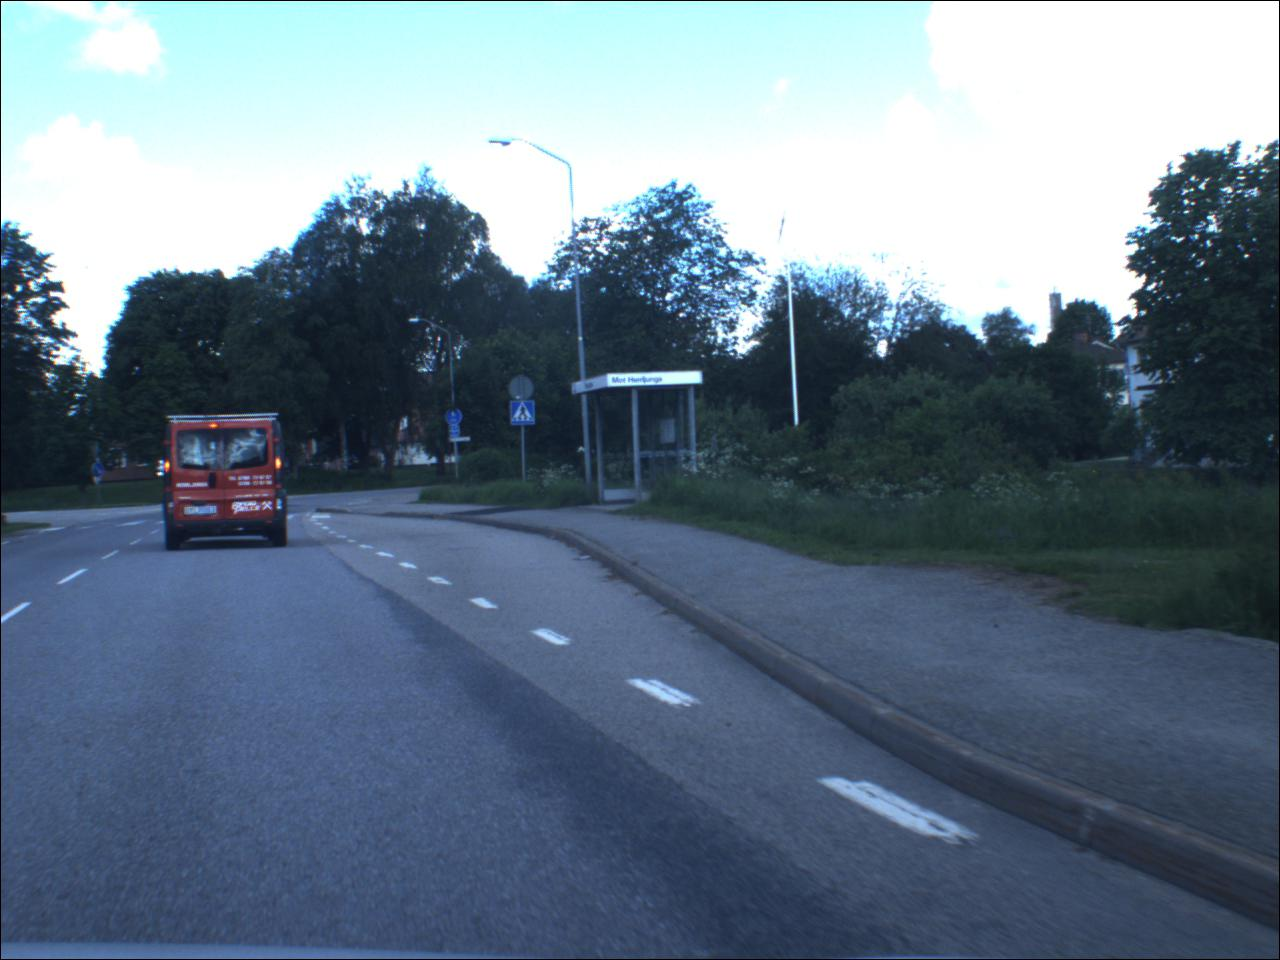PASS_RIGHT_SIDE: (94, 463, 108, 480)
PEDESTRIAN_CROSSING: (512, 403, 539, 427)
